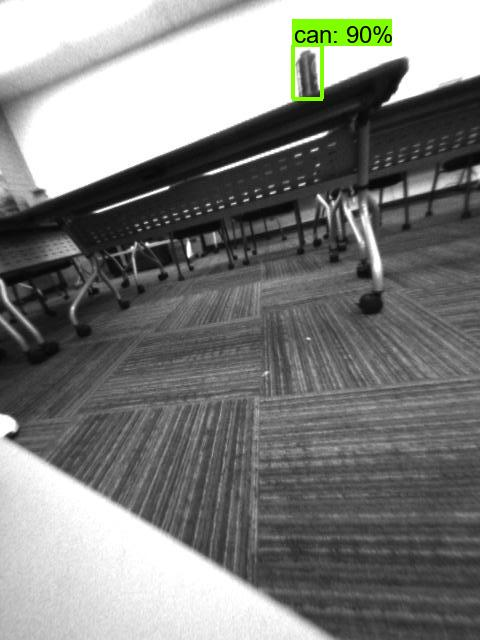can: (292, 47, 324, 99)
